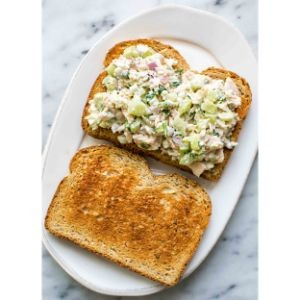tuna_brain food: (106, 59, 226, 153)
